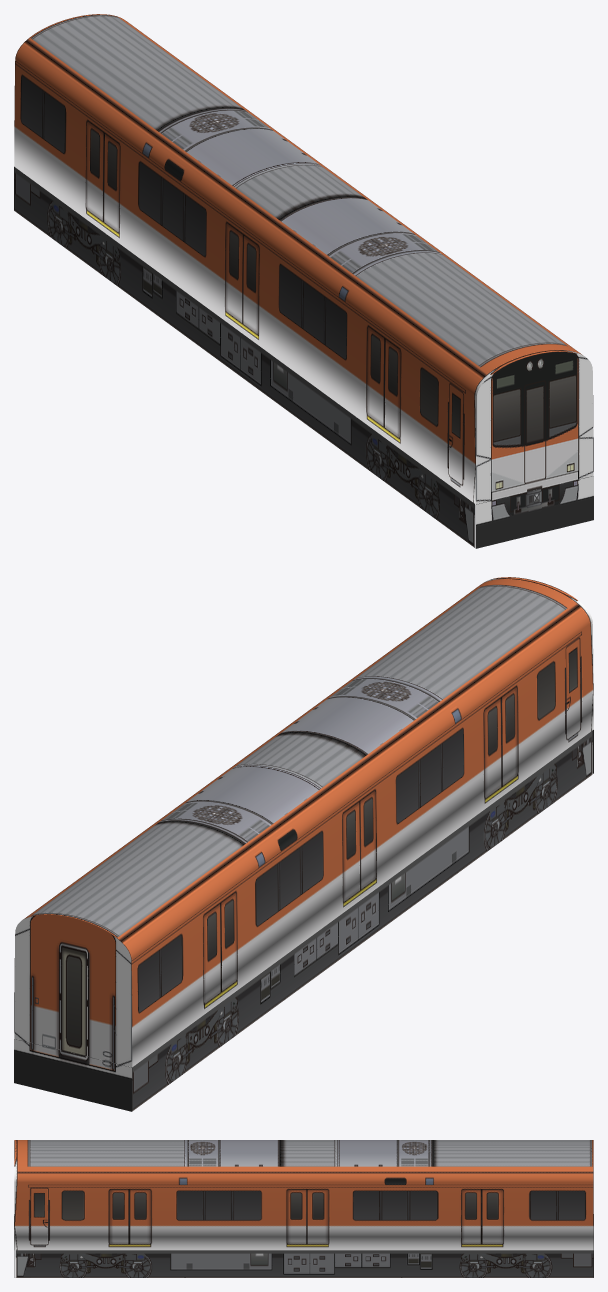
File: car1.glb
The picture shows the model from 3 angles, top to bottom: view 1: azimuth 30°, elevation 25°; view 2: azimuth 150°, elevation 25°; view 3: azimuth 270°, elevation 25°; orthographic projection. The views are drawn at different scales.
Visible parts, largest first — view 1: hansin-9300-car1; view 2: hansin-9300-car1; view 3: hansin-9300-car1.
Boxes of the visible parts, <box> form: hansin-9300-car1: <box>14,14,593,548</box>; hansin-9300-car1: <box>14,577,593,1111</box>; hansin-9300-car1: <box>14,1140,593,1277</box>.
Size of the model in its own units: 2.8 by 4.06 by 19.01.
9 materials, 8 textured.
